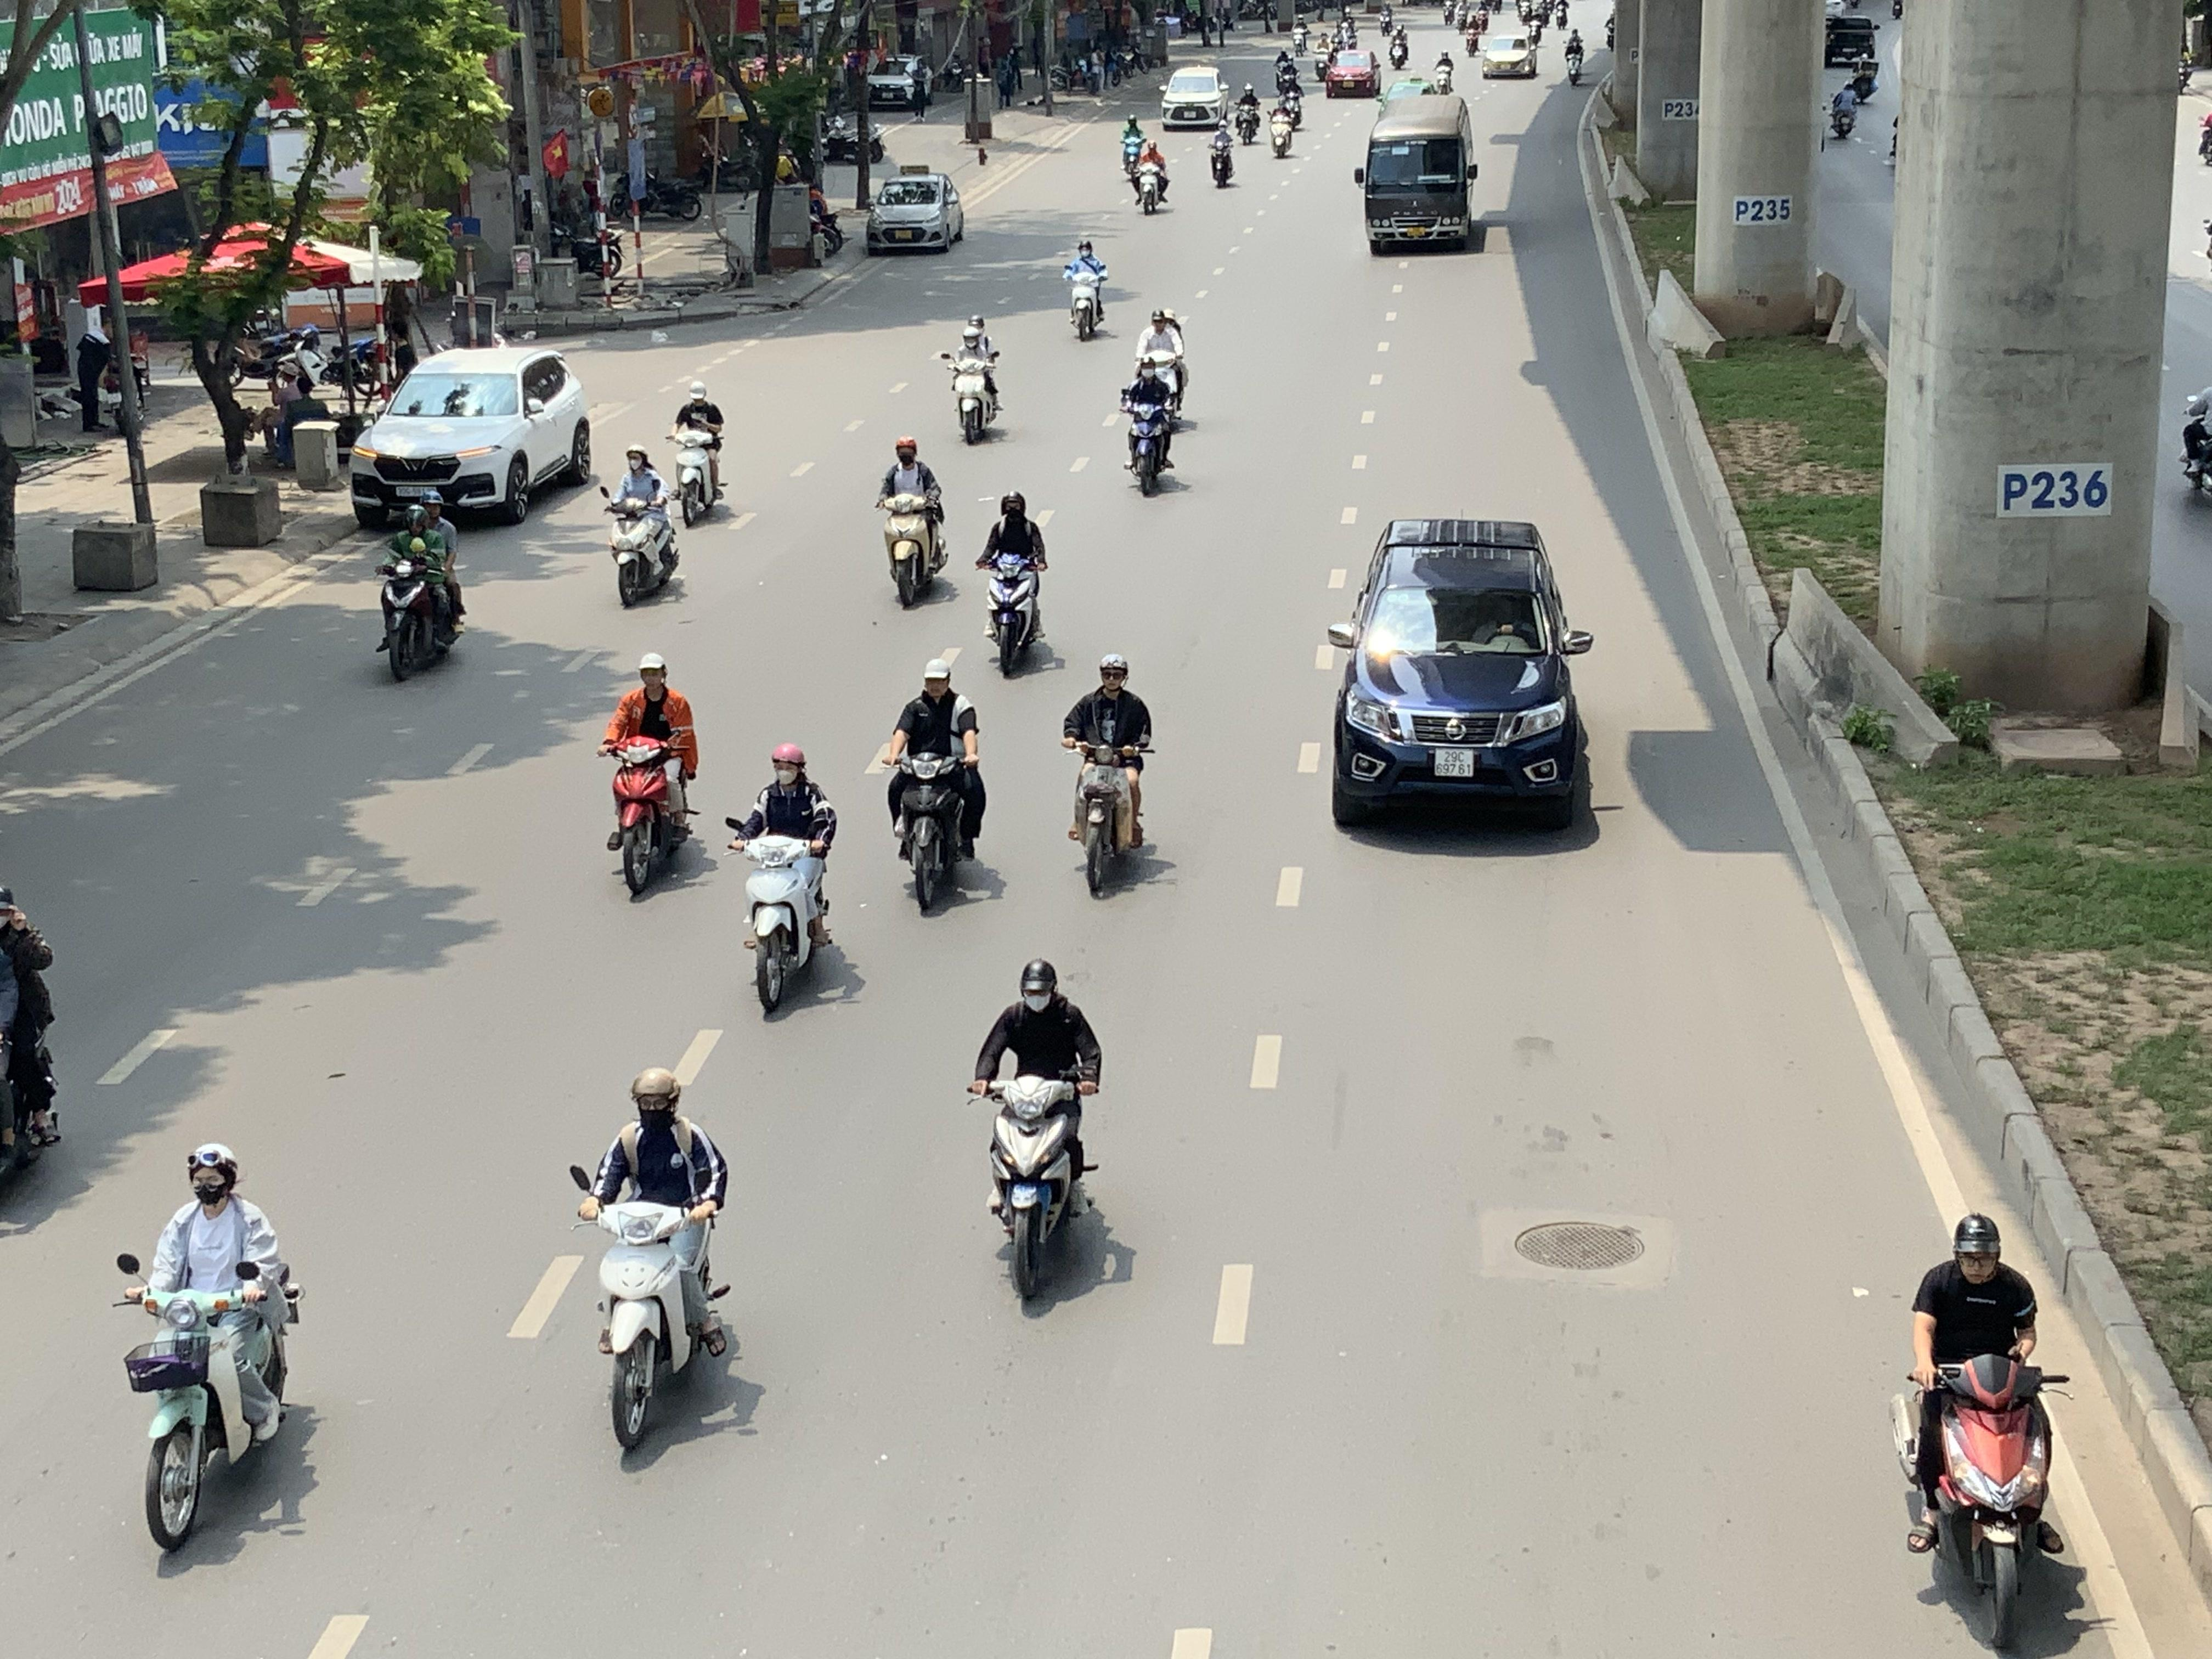BSV: (1433, 748, 1474, 777)
bus: (1355, 87, 1480, 254)
car: (1324, 516, 1594, 831), (348, 345, 594, 530), (866, 169, 965, 254), (1160, 66, 1228, 129), (864, 54, 932, 112), (1479, 31, 1540, 80), (1325, 47, 1381, 99)
motorbike: (1897, 1211, 2071, 1654), (117, 1141, 300, 1556), (573, 1065, 735, 1462), (972, 958, 1101, 1309), (730, 741, 838, 1021), (881, 659, 986, 917), (603, 652, 698, 901), (1064, 652, 1153, 899), (374, 495, 467, 683), (977, 491, 1052, 680), (603, 444, 683, 610), (876, 436, 948, 612), (671, 380, 730, 525), (1122, 356, 1181, 497), (944, 315, 1003, 444), (1134, 308, 1190, 415), (2181, 357, 2212, 516), (1064, 239, 1109, 342), (1130, 136, 1170, 214), (1827, 71, 1860, 145), (1207, 112, 1238, 188), (1268, 96, 1298, 159), (1235, 84, 1264, 145), (1271, 49, 1299, 99), (1432, 45, 1456, 96), (1388, 24, 1409, 68)
